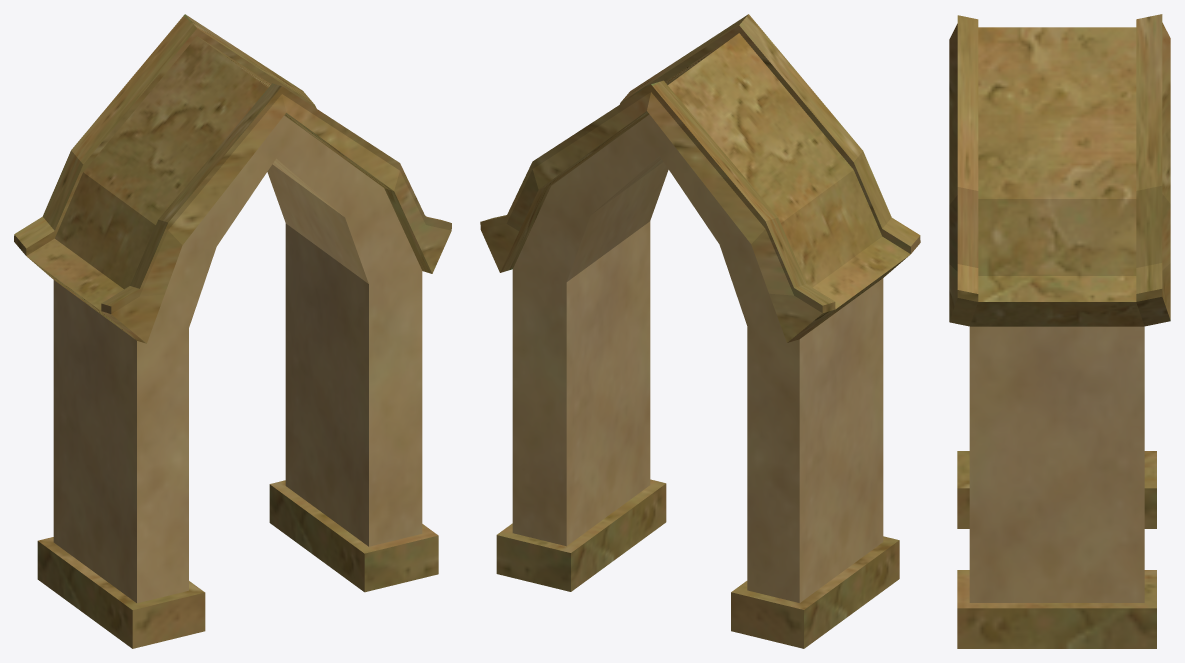
Rendered from ArcWithRoof.fbx.
3 renders of one model, left to right at view 1: azimuth 30°, elevation 25°; view 2: azimuth 150°, elevation 25°; view 3: azimuth 270°, elevation 25°, orthographic. The views are drawn at different scales.
Visible parts, largest first — view 1: Cube.003; view 2: Cube.003; view 3: Cube.003.
Boxes of the visible parts, <box> form: Cube.003: <box>14,14,451,648</box>; Cube.003: <box>480,14,920,648</box>; Cube.003: <box>949,14,1170,648</box>.
Size of the model in its own units: 237 by 350 by 127.
